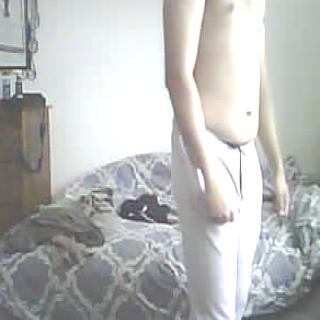White Sweatpants: (170, 114, 269, 320)
